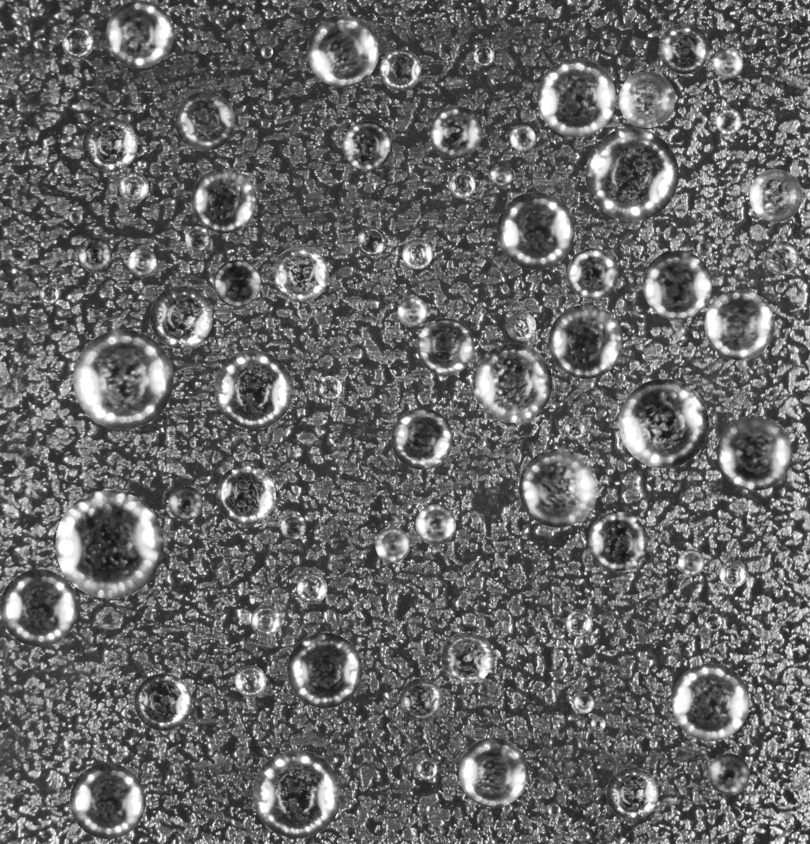Bubble: (55, 490, 163, 598), (73, 329, 173, 429), (585, 127, 678, 221), (619, 378, 708, 468), (253, 750, 341, 838), (537, 58, 616, 137), (214, 350, 293, 429), (473, 343, 552, 422), (519, 449, 597, 527), (671, 663, 749, 741), (497, 192, 574, 269), (0, 569, 77, 646), (69, 763, 145, 839), (287, 632, 362, 708), (717, 415, 792, 490), (548, 304, 622, 378), (306, 15, 378, 87), (704, 289, 774, 360), (642, 250, 712, 319), (458, 738, 528, 807), (105, 0, 173, 68), (191, 168, 256, 233), (150, 285, 213, 348), (391, 408, 452, 469), (216, 465, 276, 525), (175, 91, 234, 151), (588, 511, 647, 571), (134, 673, 191, 730), (417, 318, 474, 375), (272, 245, 328, 302), (618, 71, 675, 127), (82, 116, 137, 171), (749, 169, 802, 222), (429, 105, 482, 158), (606, 767, 658, 819), (441, 631, 493, 683), (567, 248, 618, 299), (342, 120, 392, 170), (659, 23, 709, 73), (213, 259, 260, 307), (400, 678, 443, 721), (708, 753, 750, 795), (379, 49, 421, 90), (415, 504, 456, 545), (375, 527, 410, 562), (168, 486, 203, 520), (77, 237, 111, 271), (765, 241, 799, 275), (62, 26, 93, 58), (235, 665, 266, 697), (250, 605, 281, 636), (296, 573, 327, 603), (402, 238, 432, 269), (506, 311, 536, 341), (397, 297, 427, 327), (713, 48, 743, 78), (119, 172, 148, 202), (356, 227, 385, 256), (127, 248, 156, 277), (719, 559, 747, 587), (448, 171, 475, 198), (715, 108, 742, 134), (566, 610, 592, 636), (678, 549, 704, 575), (509, 125, 535, 151), (280, 513, 306, 539), (185, 226, 209, 250), (318, 375, 341, 399), (490, 163, 513, 186), (415, 758, 437, 780), (473, 44, 494, 66), (564, 418, 585, 440), (573, 693, 594, 713), (39, 284, 59, 304), (704, 613, 723, 632), (696, 240, 712, 255), (590, 716, 605, 731), (547, 803, 560, 817), (68, 210, 82, 223), (260, 45, 273, 58)
